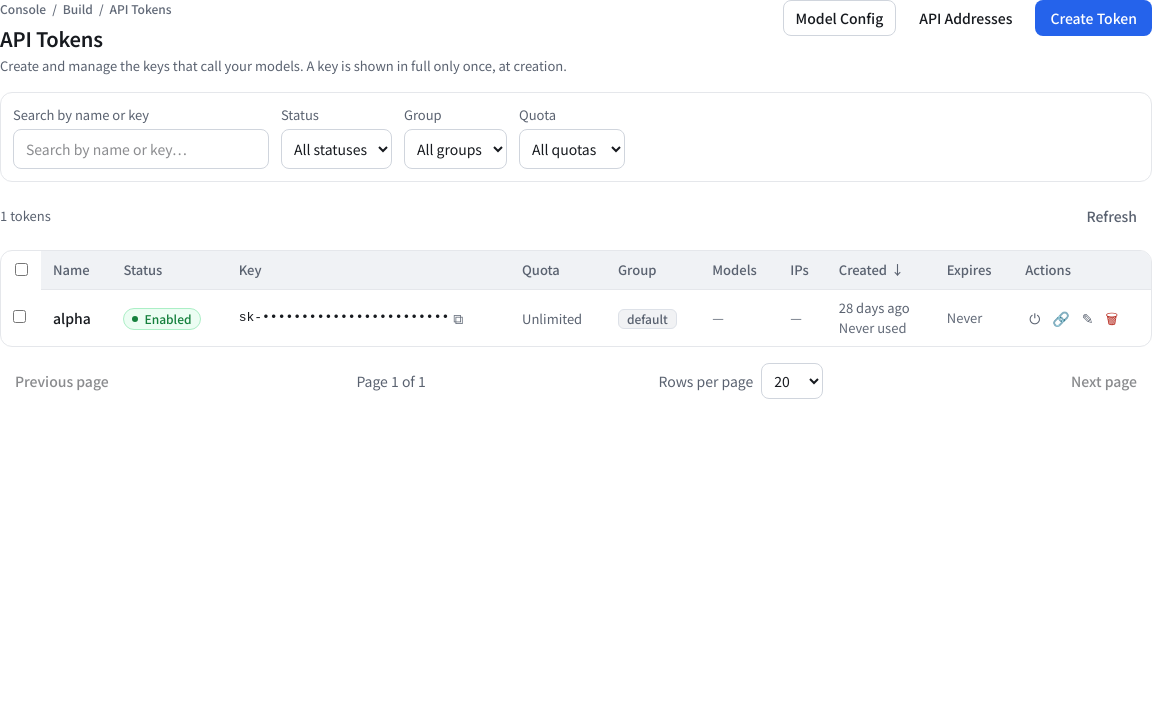
Test: TokenListPage › confirms deletion and carries the optimistic-lock version
The image size is (1152, 720).
Expected: the text "alpha" is shown, [41, 289, 111, 346]
Click the button named "Delete alpha" at [1112, 318], box [1101, 306, 1122, 328]
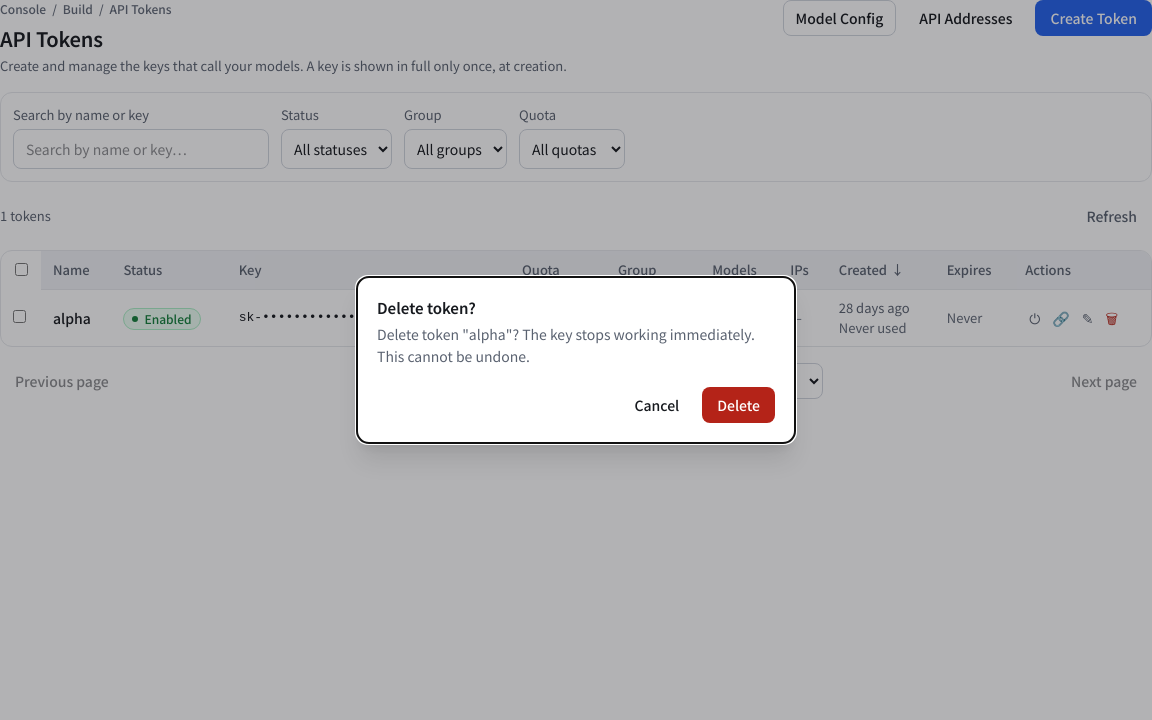
Result: the dialog "Delete token?" shows "alpha" at [377, 324, 755, 366]
Click the button "Delete" at [739, 405], box [702, 387, 775, 423]
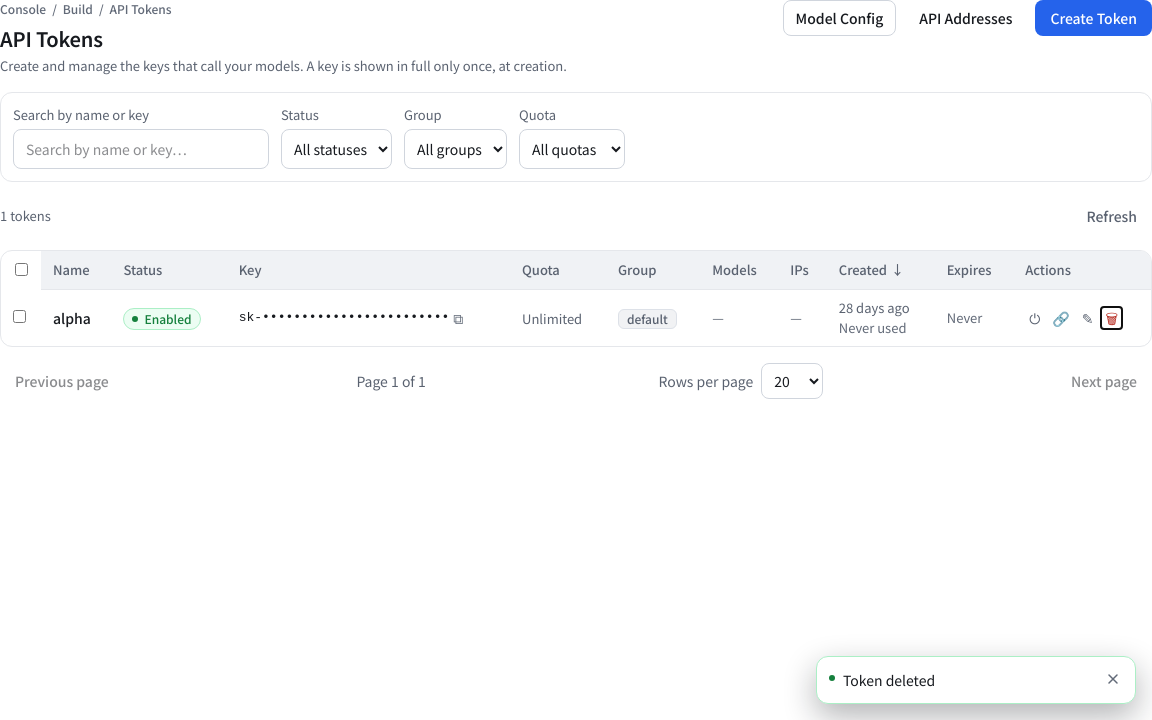
Result: the text "Token deleted" is shown at [843, 670, 935, 690]
